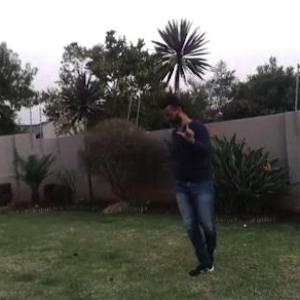land_hand: (170, 118, 200, 144)
